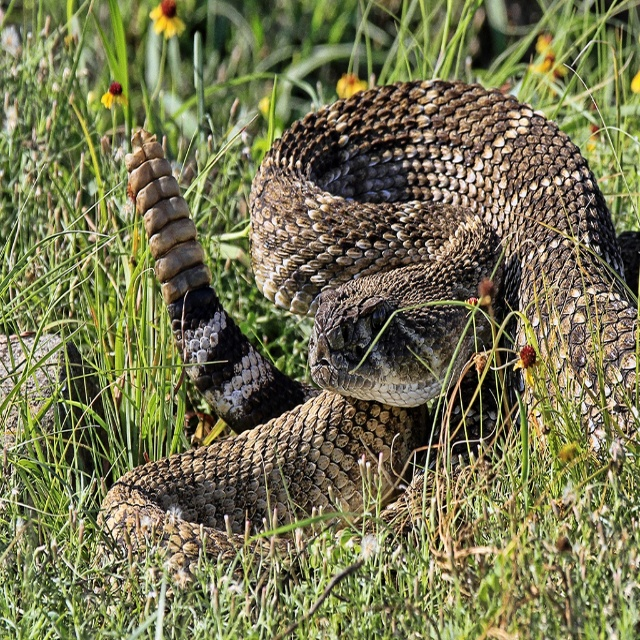Snake: (91, 79, 640, 599)
